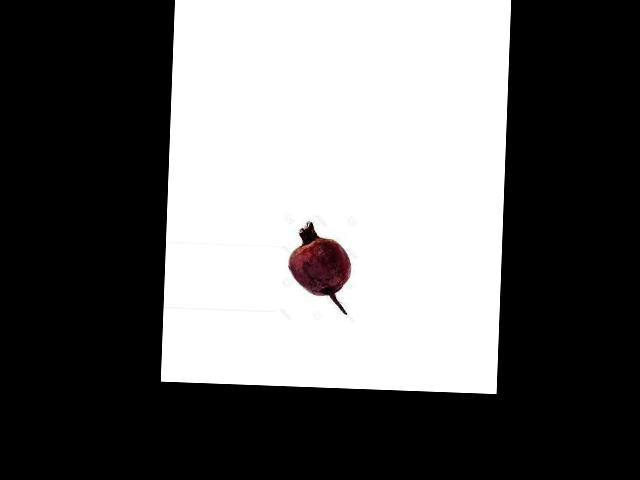beet: (287, 220, 353, 314)
